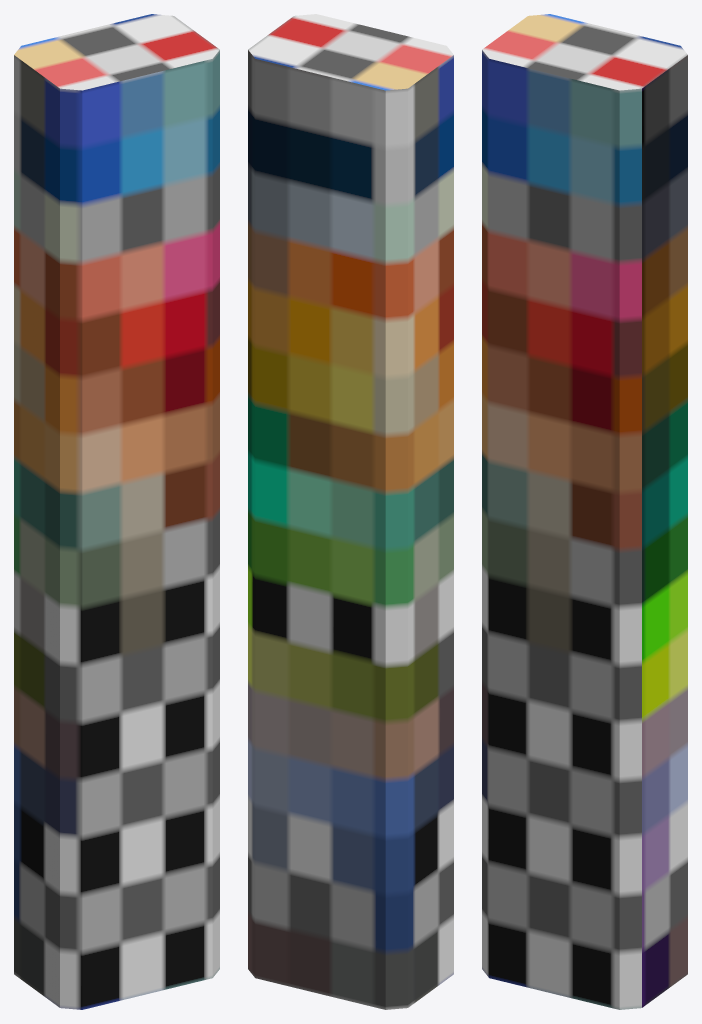
Rendered from Iron_Wall.fbx.
The picture shows the model from 3 angles, left to right: view 1: azimuth 30°, elevation 25°; view 2: azimuth 150°, elevation 25°; view 3: azimuth 330°, elevation 25°; orthographic projection.
Visible parts, largest first — view 1: Iron_Wall; view 2: Iron_Wall; view 3: Iron_Wall.
Part boxes in pixels (<box>): Iron_Wall: <box>14,14,219,1009</box>; Iron_Wall: <box>248,14,453,1009</box>; Iron_Wall: <box>482,14,687,1009</box>.
Bounding box in the file's own units: 0.3661 × 2.01 × 0.2425.
